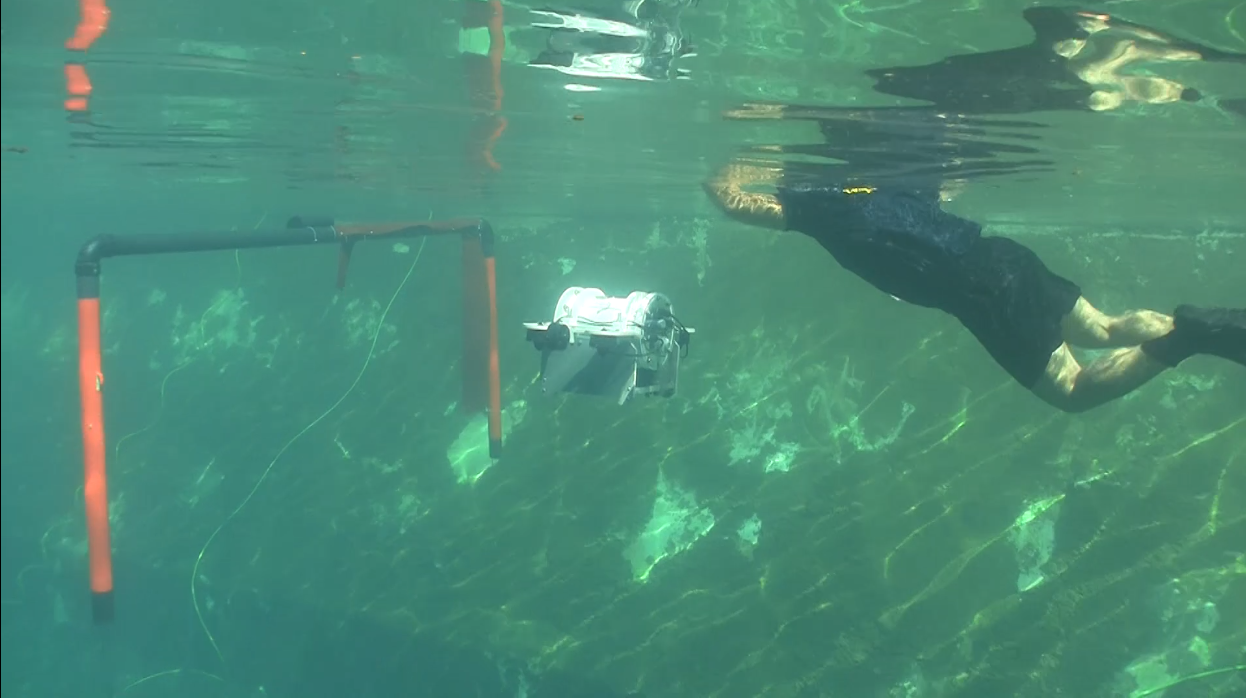gate: (67, 206, 511, 614)
